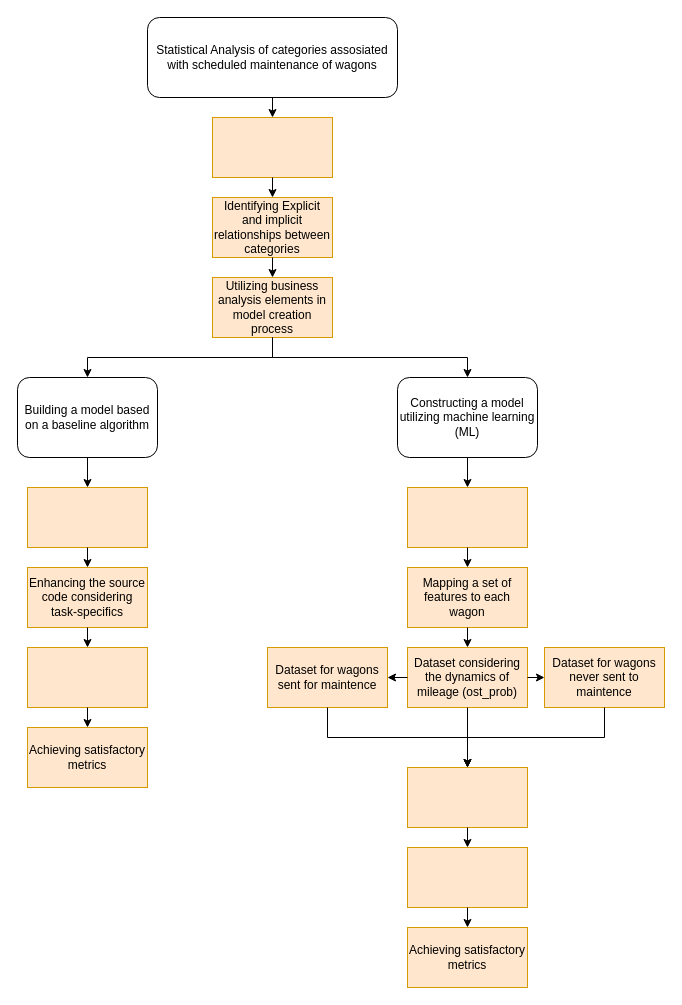
This 682x1005 diagram has some shape labels left out. The shapes that lost their labels are listed below. From the top down, each one's box as (x1, y1, x2, y2) in pixels, then its label:
(212, 116, 332, 178): Dropping variables with minimal impact
(26, 486, 148, 548): Analysis and indentification of "Weak spots" in the source code
(406, 486, 528, 548): Creating a unified dataframe with selected features
(26, 646, 148, 708): Testing the algorithm on datasets
(406, 766, 528, 828): Model selection
(406, 846, 528, 908): Model training
